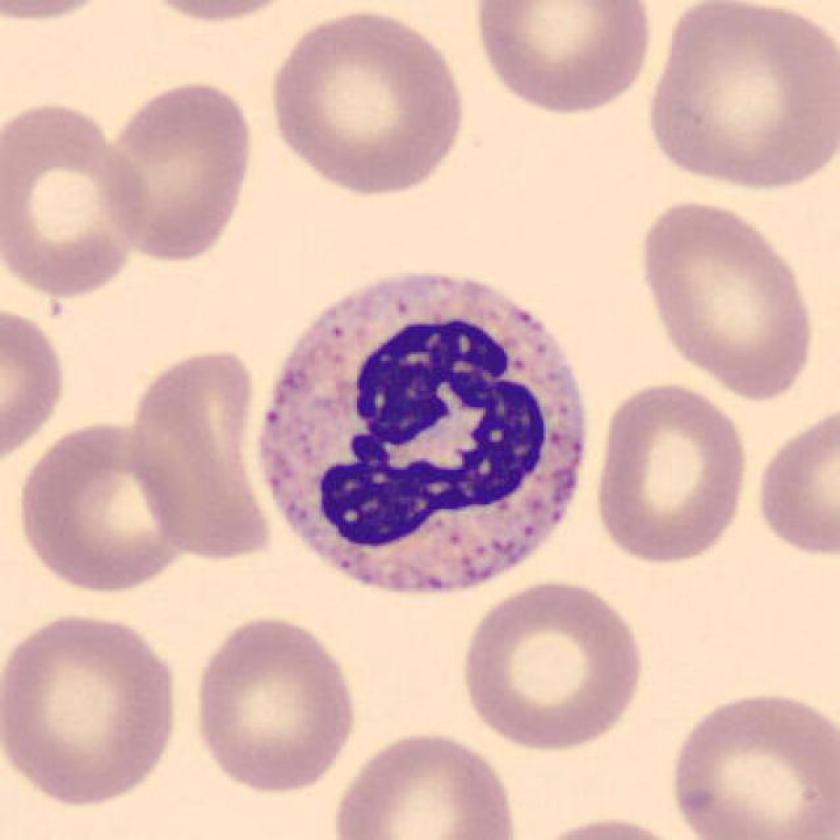neutrophil: (264, 269, 585, 594)
